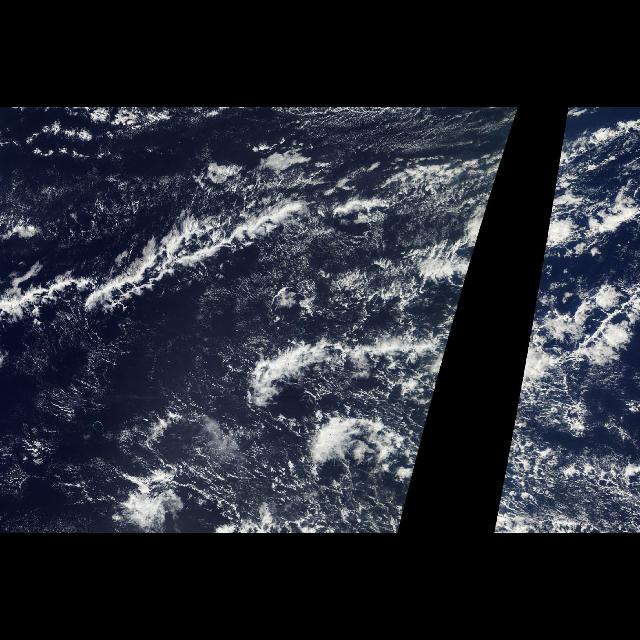Fish: (3, 187, 495, 413), (514, 187, 634, 413)
Gravel: (509, 389, 621, 477)
Sugar: (13, 329, 112, 456), (311, 108, 503, 152)
